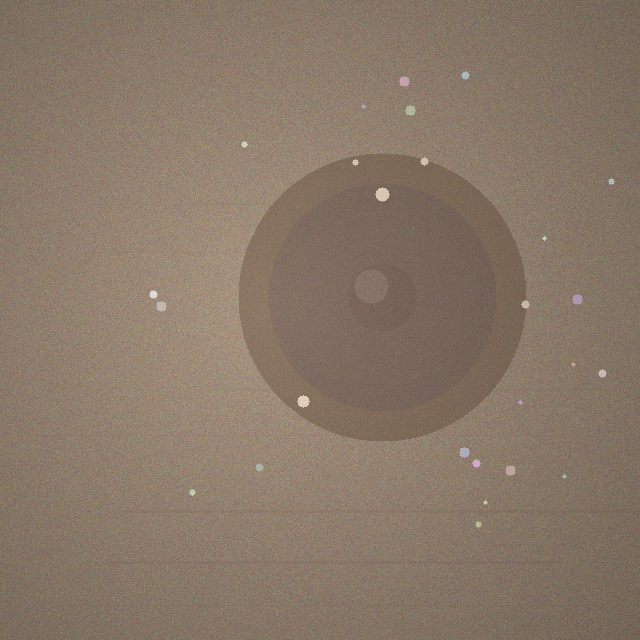overburn: (238, 153, 526, 441)
